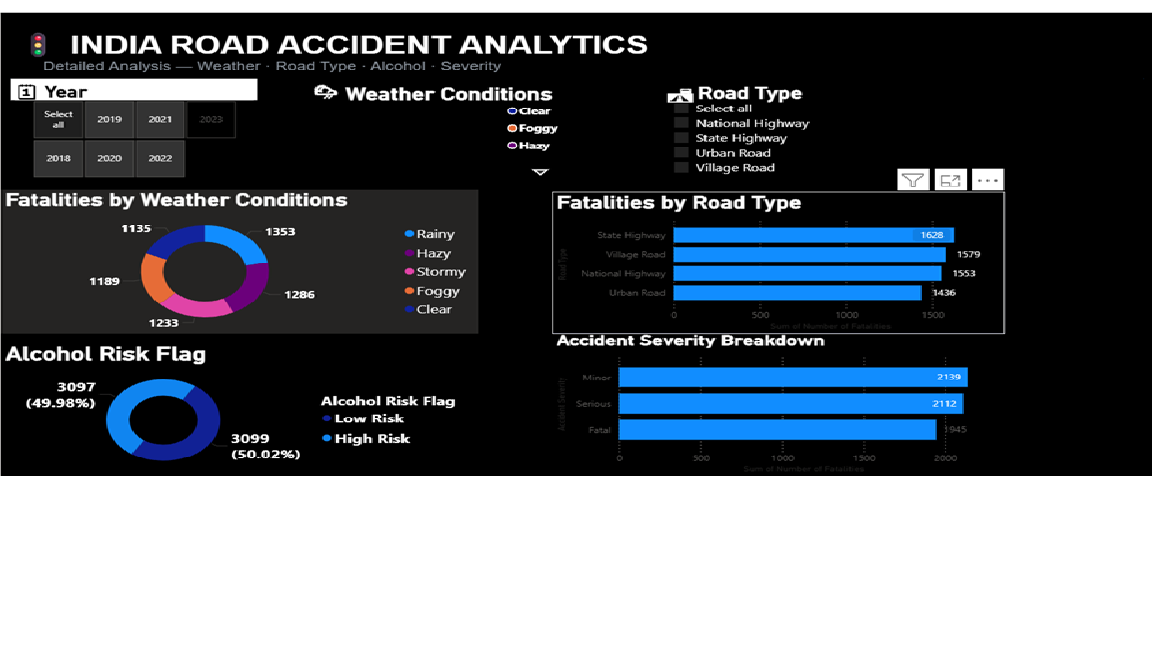

This screenshot's page, from the dashboard's own definition file:
{"tool":"powerbi","page":{"name":"Page 2","canvas":[1280,720],"ordinal":1},"visuals":[{"type":"shape","box":[10.6,0,1258.3,205.9],"z":0},{"type":"textbox","box":[10.6,0,1258.3,148.4],"z":1000},{"type":"slicer","title":"🗓 Year","fields":{"Values":["CSV.Year"]},"box":[10.6,103,274.1,159],"z":2000},{"type":"donutChart","title":"🌦 Weather Conditions","fields":{"Category":["CSV.Weather Conditions"]},"box":[340.7,103,299.8,159],"z":3000},{"type":"slicer","title":"🛣 Road Type","fields":{"Values":["CSV.Road Type"]},"box":[734.4,103,255.9,159],"z":4000},{"type":"donutChart","title":"Fatalities by Weather Conditions","fields":{"Category":["CSV.Weather Conditions"],"Y":["Sum(CSV.Number of Fatalities)"]},"box":[0,275.6,530,222.6],"z":5000},{"type":"donutChart","title":"Alcohol Risk Flag","fields":{"Category":["CSV.Alcohol Risk Flag"],"Y":["Sum(CSV.Number of Fatalities)"]},"box":[0,513.3,530,205.9],"z":6000},{"type":"clusteredBarChart","title":" Accident Severity Breakdown","fields":{"Category":["CSV.Accident Severity"],"Y":["Sum(CSV.Number of Fatalities)"]},"box":[611.7,495.1,502.7,224.1],"z":7000},{"type":"clusteredBarChart","title":" Fatalities by Road Type","fields":{"Category":["CSV.Road Type"],"Y":["Sum(CSV.Number of Fatalities)"]},"box":[611.7,278.6,502.7,219.6],"z":8000}]}

Visuals, with their boxes in screenshot pixels (x1, y1, x2, y2), scaled from the page's 1280x720 canvas onto the 1152x648 screenshot:
shape: [x1=10, y1=0, x2=1142, y2=185]
textbox: [x1=10, y1=0, x2=1142, y2=134]
"🗓 Year" slicer: [x1=10, y1=93, x2=256, y2=236]
"🌦 Weather Conditions" donutChart: [x1=307, y1=93, x2=576, y2=236]
"🛣 Road Type" slicer: [x1=661, y1=93, x2=891, y2=236]
"Fatalities by Weather Conditions" donutChart: [x1=0, y1=248, x2=477, y2=448]
"Alcohol Risk Flag" donutChart: [x1=0, y1=462, x2=477, y2=647]
" Accident Severity Breakdown" clusteredBarChart: [x1=551, y1=446, x2=1003, y2=647]
" Fatalities by Road Type" clusteredBarChart: [x1=551, y1=251, x2=1003, y2=448]
